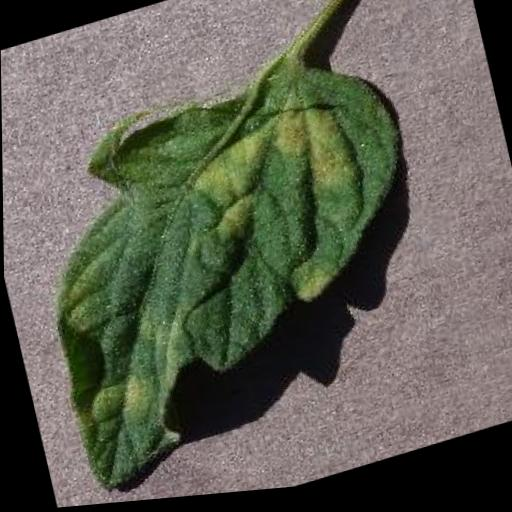Leaf Mold: (10, 43, 456, 505)
